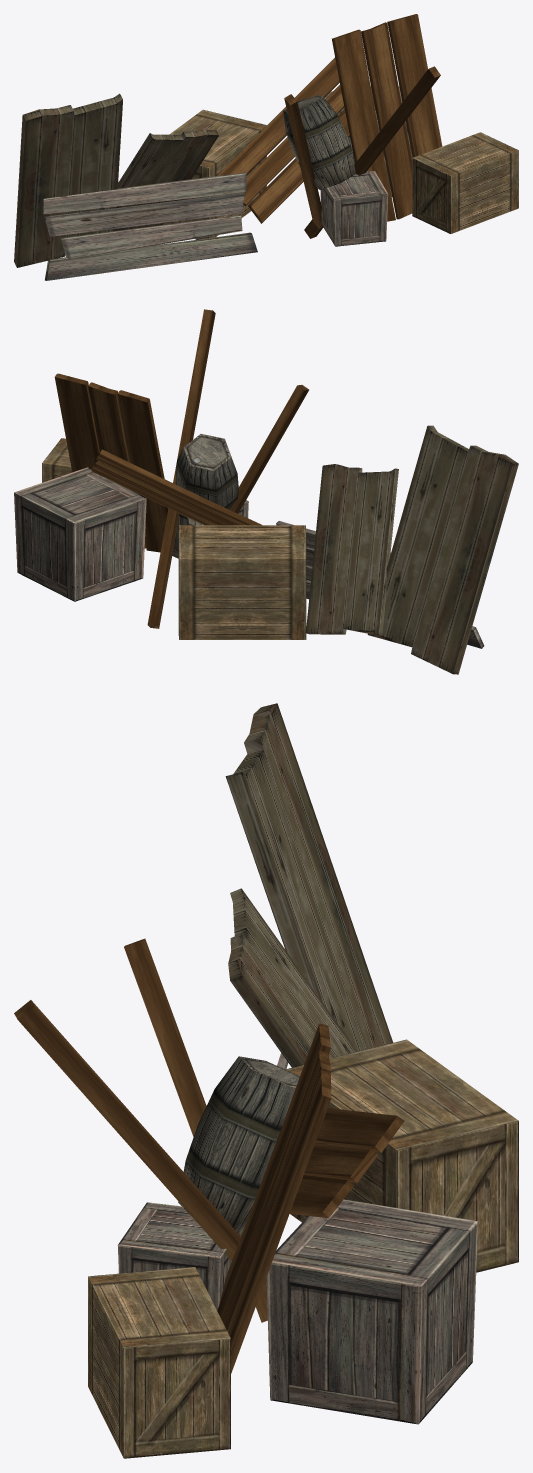
File: pir_m_prp_inv_barricade_02.fbx
3 views of the same model, one above another, from view 1: azimuth 30°, elevation 25°; view 2: azimuth 150°, elevation 25°; view 3: azimuth 270°, elevation 25° (orthographic). The views are drawn at different scales.
Parts seen in each view (by area): view 1: CartBase1, crate1, shelf_6, plank_60, plank_61, shelf_7, CartBase5, shelf_4, plank_67, barrel, plank_64, crate_sides (+9 smaller); view 2: CartBase1, CartBase5, crate, polySurface1, Top, top, barrel, shelf_7, lod_high.001, shelf_4, shelf_11, shelf_6 (+4 smaller); view 3: polySurface1, CartBase1, crate1, crate, barrel, Top, top, CartBase5, Top1, lod_high.001, shelf_4, lod_high1 (+7 smaller).
Part boxes in pixels (x1,y1,x2,y2): CartBase1: (14,93,122,267); crate1: (412,150,518,233); shelf_6: (361,22,412,219); plank_60: (45,232,257,280); plank_61: (44,192,244,236); shelf_7: (332,29,395,221); CartBase5: (115,129,218,230); shelf_4: (387,14,442,157); plank_67: (42,172,246,214); barrel: (283,95,355,189); plank_64: (61,215,242,259); crate_sides: (320,188,388,246); CartBase1: (367,425,518,674); CartBase5: (306,464,398,636); crate: (178,555,306,639); polySurface1: (14,492,146,601); Top: (178,525,306,559); top: (14,467,146,522); barrel: (175,434,238,525); shelf_7: (117,390,168,552); lod_high.001: (147,309,215,628); shelf_4: (54,373,99,472); shelf_11: (96,449,262,525); shelf_6: (88,382,145,548); polySurface1: (266,1221,478,1424); CartBase1: (225,703,393,1051); crate1: (88,1277,230,1458); crate: (290,1102,518,1272); barrel: (178,1056,299,1234); Top: (286,1039,518,1150); top: (272,1199,477,1286); CartBase5: (228,888,357,1067); Top1: (88,1267,230,1348); lod_high.001: (14,1000,267,1300); shelf_4: (226,1070,331,1373); lod_high1: (124,938,267,1322).
Size of the model in its own units: 4036 by 1884 by 2032.
Materials: 1 (1 with a texture image).
